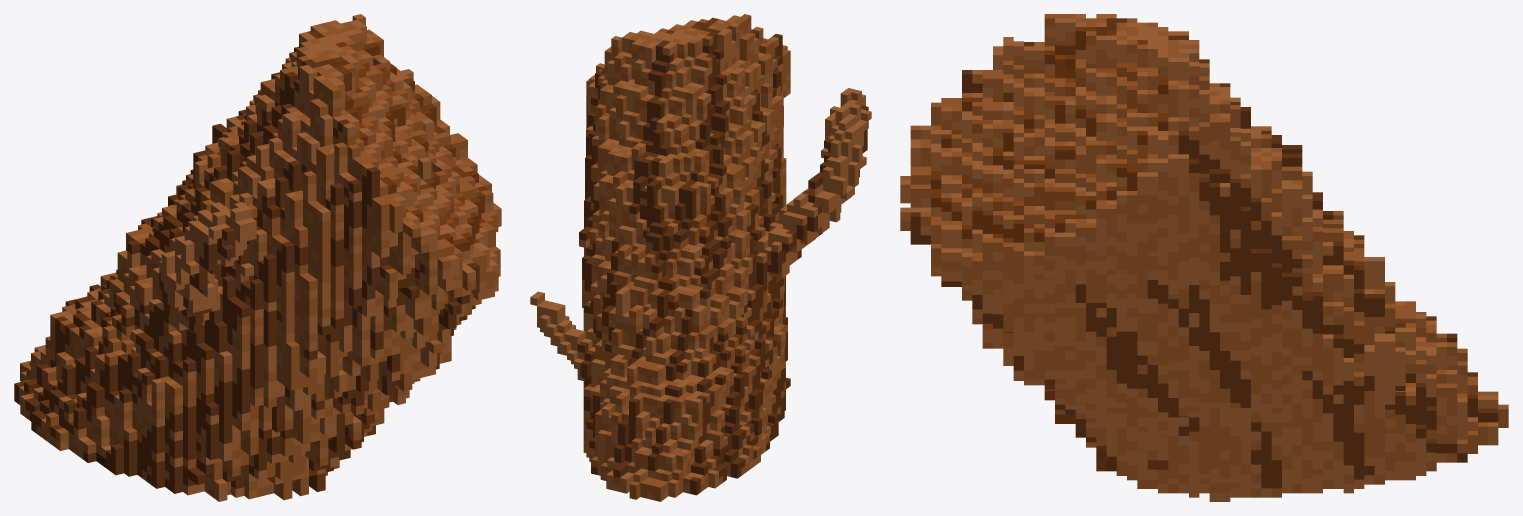
The model's file is DeadTree.obj.
The picture shows the model from 3 angles, left to right: view 1: azimuth 30°, elevation 25°; view 2: azimuth 150°, elevation 25°; view 3: azimuth 270°, elevation 25°; orthographic projection. The views are drawn at different scales.
Bounding box in the file's own units: 3.6 × 4.8 × 5.9.
Materials: 1 (1 with a texture image).
